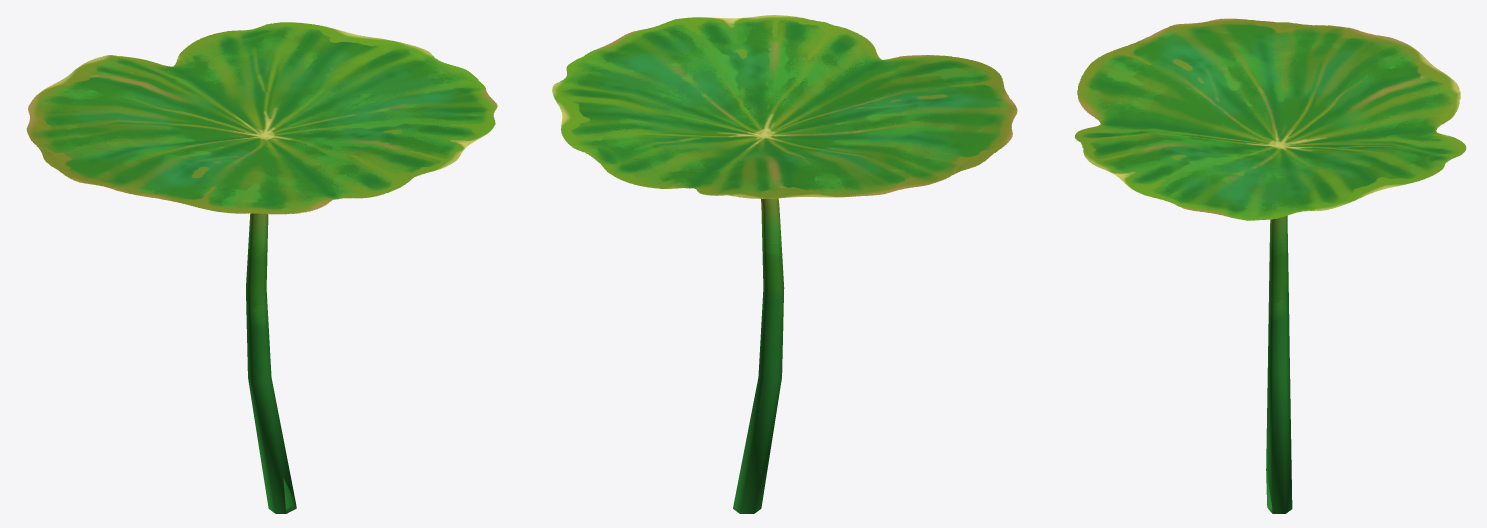
The model's file is Veg_Lotusleaf_01.fbx.
The picture shows the model from 3 angles, left to right: view 1: azimuth 30°, elevation 25°; view 2: azimuth 150°, elevation 25°; view 3: azimuth 270°, elevation 25°; orthographic projection. The views are drawn at different scales.
Visible parts, largest first — view 1: Veg_Lotusleaf_01; view 2: Veg_Lotusleaf_01; view 3: Veg_Lotusleaf_01.
Boxes of the visible parts, left/top/right/bottom form: Veg_Lotusleaf_01: left=26, top=22, right=497, bottom=513; Veg_Lotusleaf_01: left=552, top=15, right=1017, bottom=513; Veg_Lotusleaf_01: left=1075, top=18, right=1466, bottom=513.
Bounding box in the file's own units: 129 × 113 × 109.
